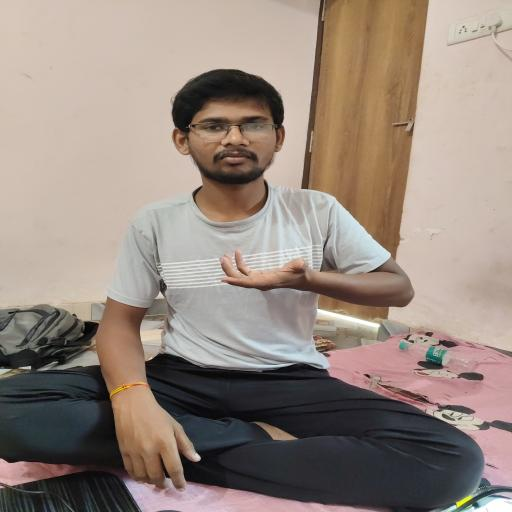Help: (198, 236, 359, 314)
